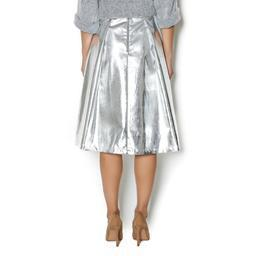skirt: (73, 20, 182, 156)
